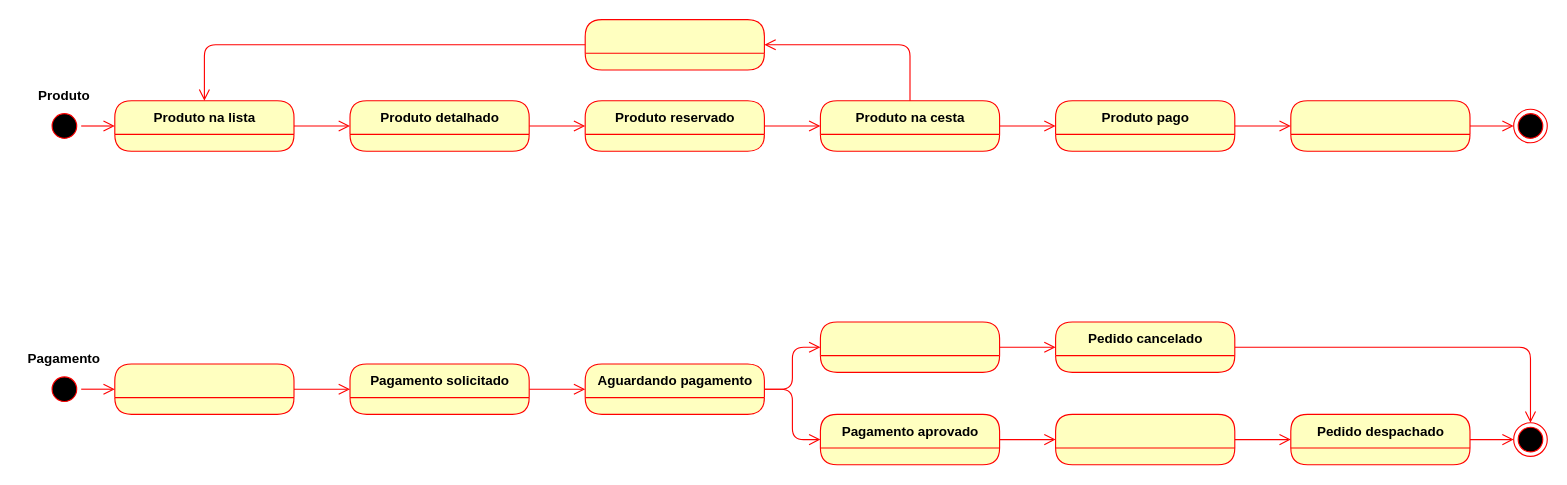
The diagram is 1567 pixels wide and 485 high, and some of its shapes have lost their labels. The centre of each missing label's shape, as x and y in pixels:
"Pagamento recusado" belongs at (x=909, y=346).
"Pedido faturado" belongs at (x=1144, y=439).
"Pedido realizado" belongs at (x=204, y=388).
"Produto despachado" belongs at (x=1380, y=125).
"Reserva cancelada" belongs at (x=674, y=44).
